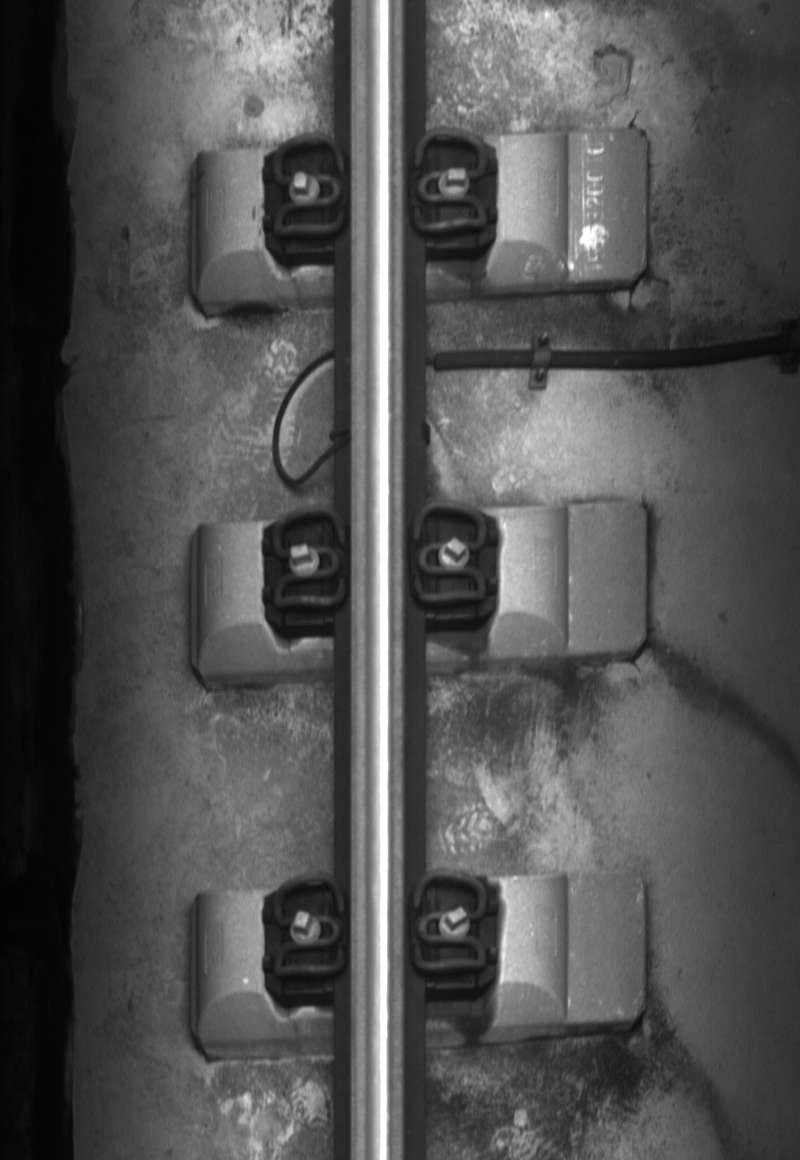l_faster: (268, 498, 349, 616), (268, 871, 348, 984), (267, 131, 349, 241)
r_faster: (407, 500, 492, 612), (409, 866, 492, 978), (409, 126, 492, 238)
